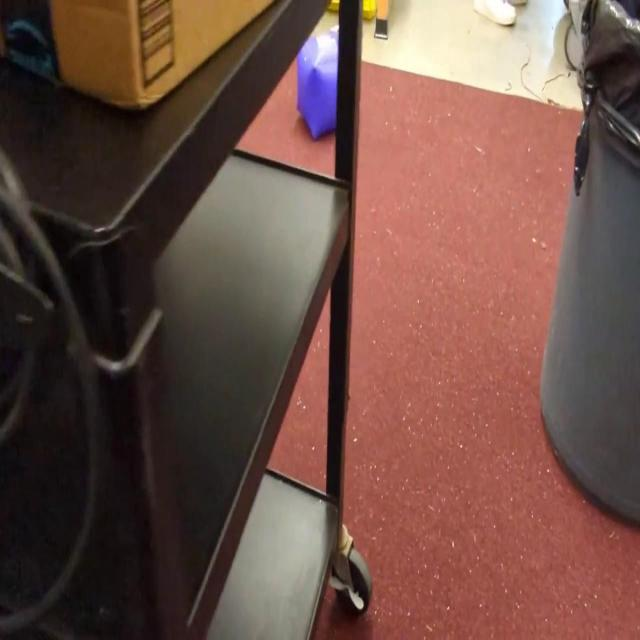frc_cube: (296, 35, 352, 135)
